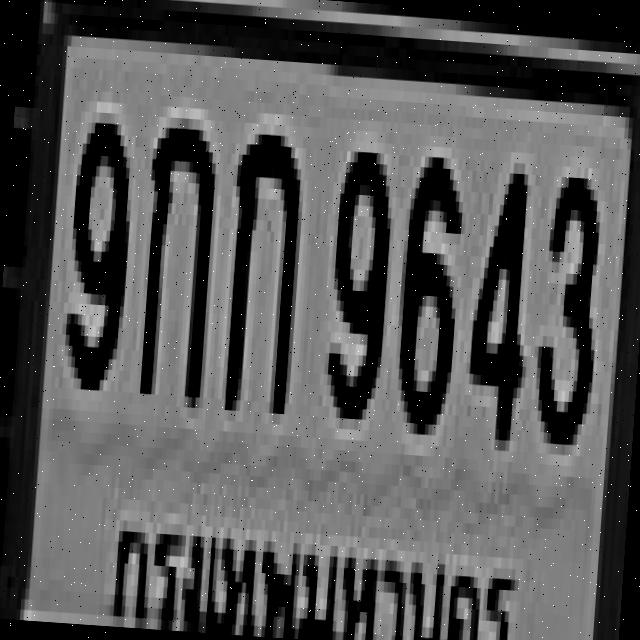10GorGai: (132, 105, 215, 397), (218, 121, 304, 402)
3: (528, 164, 602, 434)
4: (462, 155, 532, 435)
6: (391, 145, 462, 425)
9: (59, 110, 132, 380), (322, 140, 392, 409)
Bangkok: (106, 503, 524, 640)
